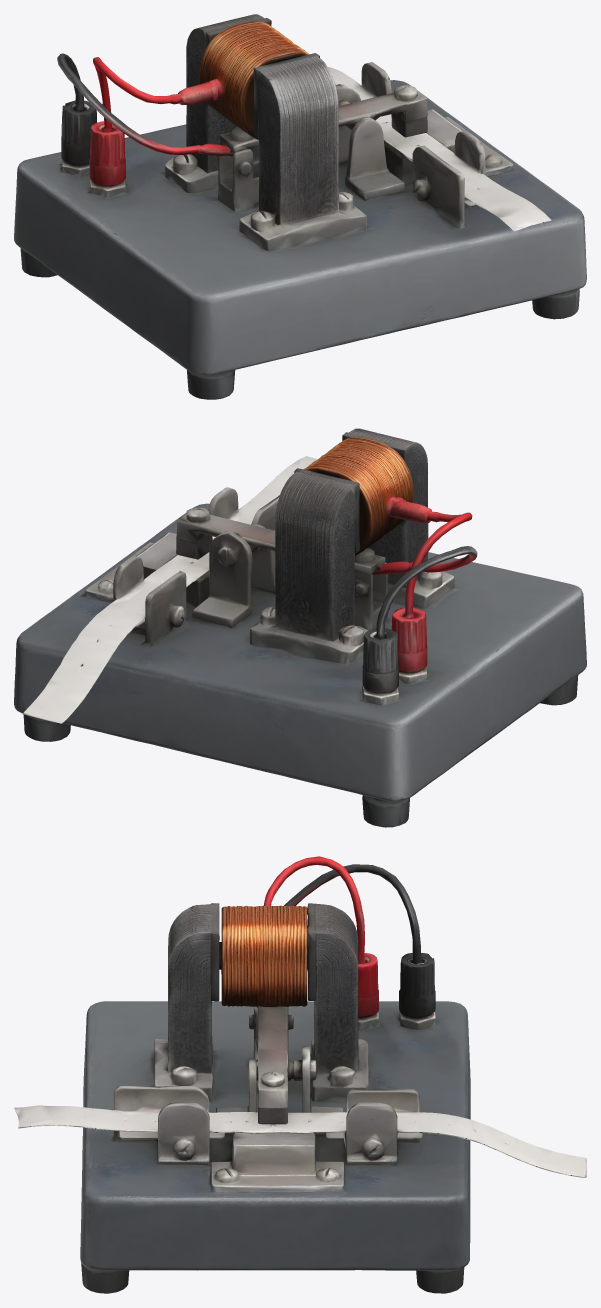
File: ticker-timer.glb
3 views of the same model, one above another, from view 1: azimuth 30°, elevation 25°; view 2: azimuth 150°, elevation 25°; view 3: azimuth 270°, elevation 25° (orthographic).
Visible parts, largest first — view 1: ticker-timer; view 2: ticker-timer; view 3: ticker-timer.
Part boxes in pixels (x1,y1,x2,y2): ticker-timer: (14,14,586,399); ticker-timer: (14,428,586,827); ticker-timer: (14,856,586,1293).
Size of the model in its own units: 0.1199 by 0.0773 by 0.15.
1 material, 1 textured.
